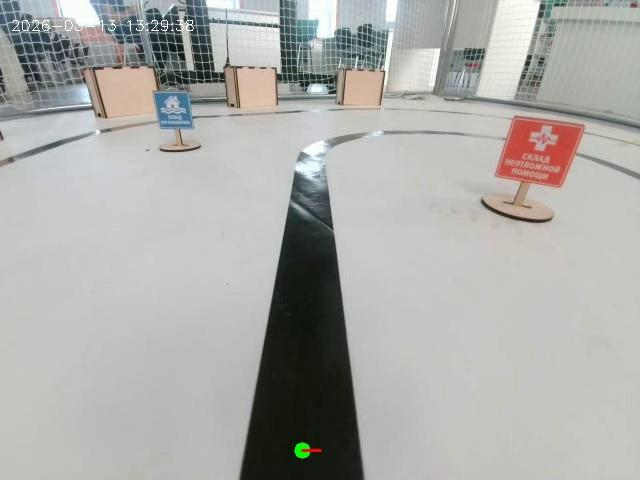flood: (144, 90, 198, 156)
medical: (483, 104, 585, 218)
